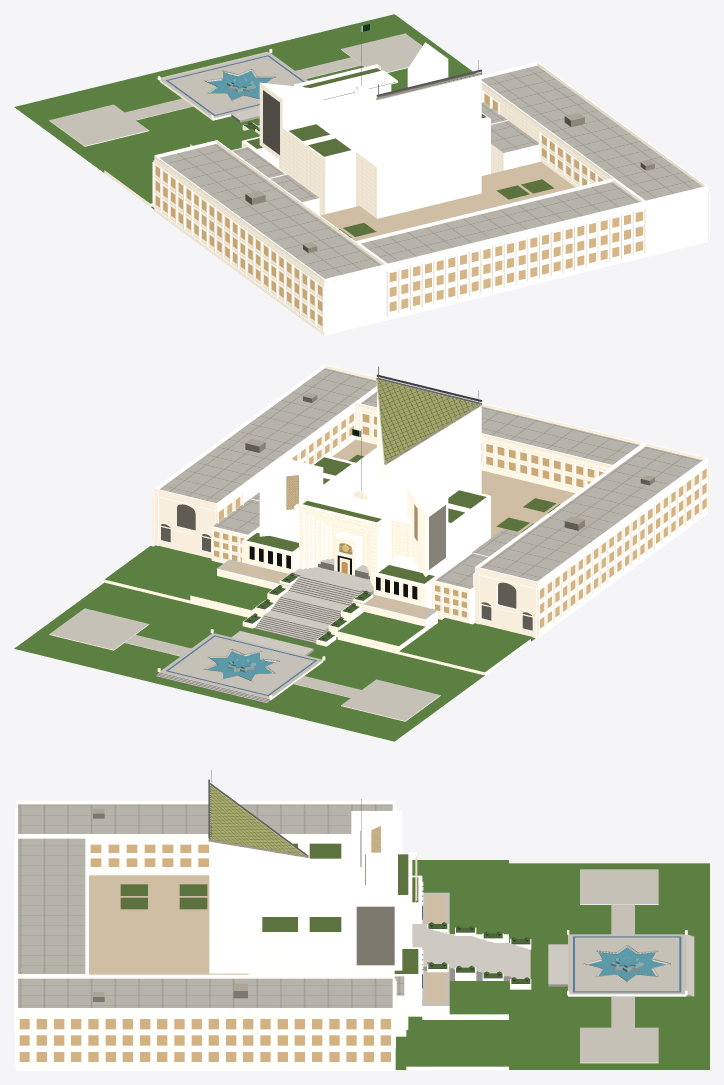
Rendered from supreme_court.glb.
3 views of the same model, one above another, from view 1: azimuth 30°, elevation 25°; view 2: azimuth 150°, elevation 25°; view 3: azimuth 270°, elevation 25° (orthographic). The views are drawn at different scales.
Parts seen in each view (by area): view 1: m_sc_marble, m_sc_wing_roof, m_sc_marble_plain, m_sc_lawn, m_sc_paving, m_sc_window, m_sc_court_floor, m_sc_roof_garden, m_sc_panel_shade, m_sc_stair, m_sc_water; view 2: m_sc_marble, m_sc_lawn, m_sc_wing_roof, m_sc_marble_plain, m_sc_paving, m_sc_stair, m_sc_window, m_sc_court_floor, m_sc_triangle_roof, m_sc_panel_shade, m_sc_roof_garden, m_sc_water (+4 smaller); view 3: m_sc_marble, m_sc_lawn, m_sc_wing_roof, m_sc_marble_plain, m_sc_paving, m_sc_court_floor, m_sc_window, m_sc_stair, m_sc_roof_garden, m_sc_panel_shade, m_sc_triangle_roof, m_sc_water (+3 smaller).
Boxes of the visible parts, bbox=[...] form: m_sc_marble: bbox=[49, 42, 707, 335]; m_sc_wing_roof: bbox=[159, 65, 702, 278]; m_sc_marble_plain: bbox=[152, 62, 709, 331]; m_sc_lawn: bbox=[14, 14, 475, 209]; m_sc_paving: bbox=[49, 33, 422, 145]; m_sc_window: bbox=[155, 94, 642, 325]; m_sc_court_floor: bbox=[320, 161, 575, 240]; m_sc_roof_garden: bbox=[247, 68, 554, 237]; m_sc_panel_shade: bbox=[245, 90, 654, 252]; m_sc_stair: bbox=[156, 52, 275, 127]; m_sc_water: bbox=[208, 71, 271, 99]; m_sc_marble: bbox=[49, 389, 707, 721]; m_sc_lawn: bbox=[14, 545, 535, 741]; m_sc_wing_roof: bbox=[160, 368, 702, 588]; m_sc_marble_plain: bbox=[152, 364, 709, 638]; m_sc_paving: bbox=[49, 559, 440, 720]; m_sc_stair: bbox=[156, 558, 373, 703]; m_sc_window: bbox=[214, 413, 706, 628]; m_sc_court_floor: bbox=[225, 439, 575, 616]; m_sc_triangle_roof: bbox=[377, 379, 480, 464]; m_sc_panel_shade: bbox=[161, 392, 654, 630]; m_sc_roof_garden: bbox=[246, 454, 560, 583]; m_sc_water: bbox=[207, 651, 274, 680]; m_sc_marble: bbox=[16, 811, 687, 1070]; m_sc_lawn: bbox=[395, 860, 709, 1069]; m_sc_wing_roof: bbox=[18, 804, 404, 1007]; m_sc_marble_plain: bbox=[14, 800, 423, 1070]; m_sc_paving: bbox=[422, 869, 686, 1062]; m_sc_court_floor: bbox=[89, 875, 445, 1002]; m_sc_window: bbox=[19, 844, 390, 1061]; m_sc_stair: bbox=[412, 924, 694, 996]; m_sc_roof_garden: bbox=[120, 843, 418, 973]; m_sc_panel_shade: bbox=[93, 808, 394, 1001]; m_sc_triangle_roof: bbox=[210, 785, 307, 857]; m_sc_water: bbox=[588, 947, 665, 980].
Bounding box in the file's own units: 126 × 47.5 × 177.
24 materials, 4 textured.
